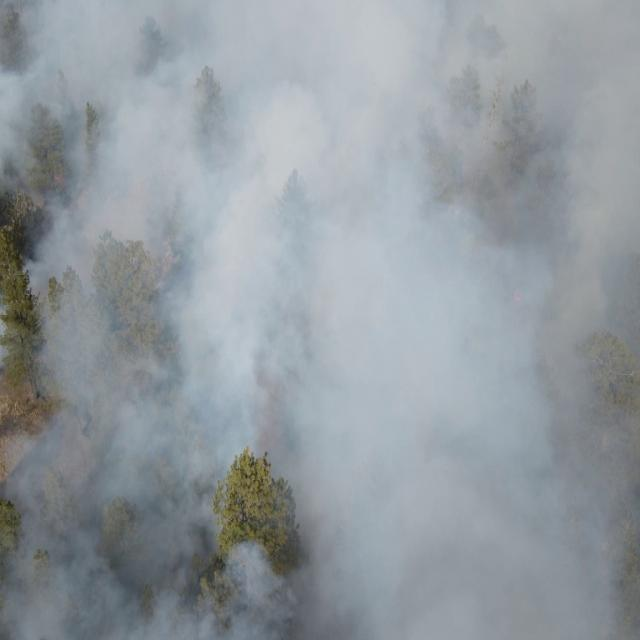fire: (50, 172, 65, 188)
smoke: (0, 0, 640, 640)
